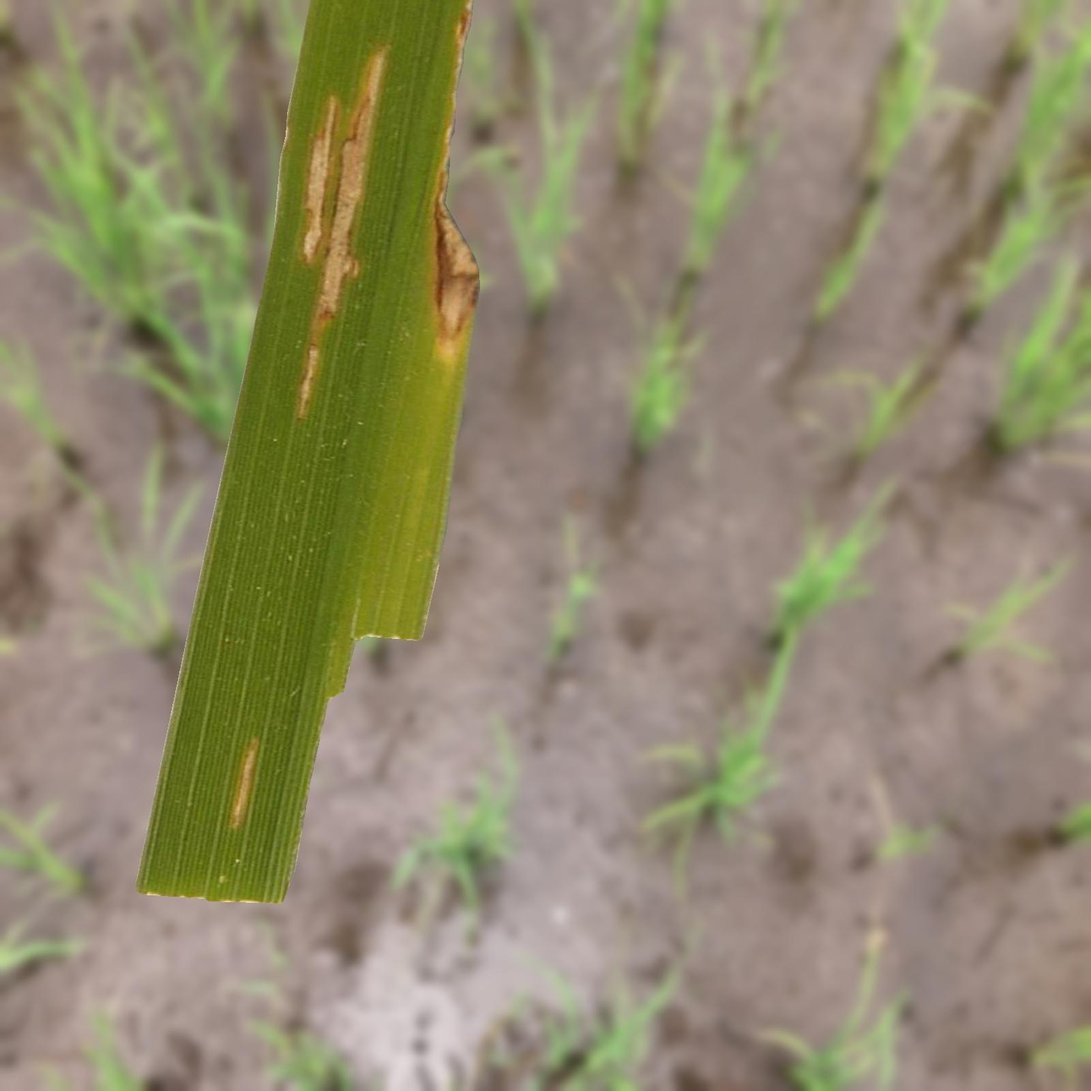BLS: (295, 46, 389, 420), (229, 738, 260, 828)
LEAF: (136, 0, 479, 903)
